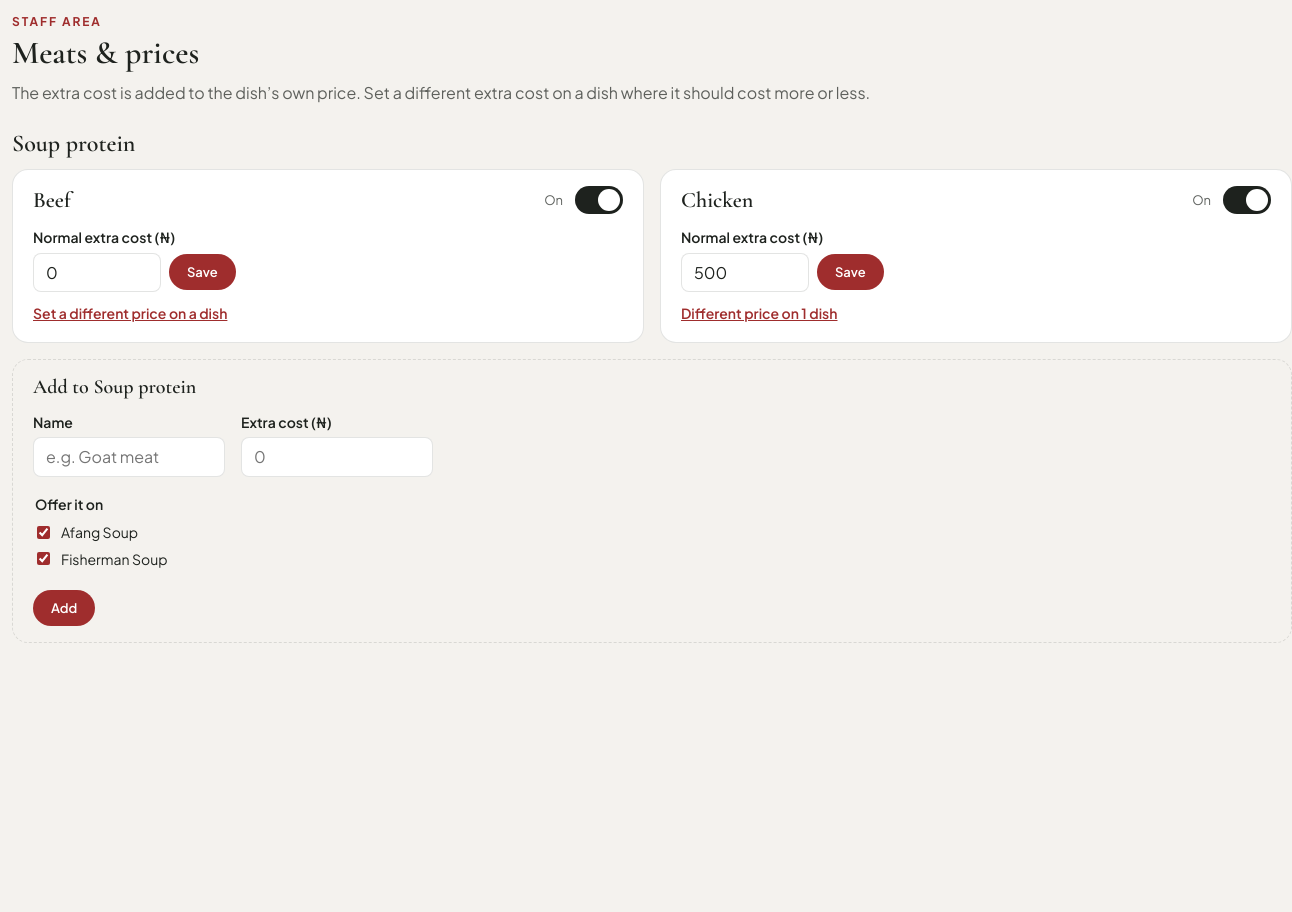
Test: AdminMeatsView › changing a meat’s price › saves the new price in kobo and confirms it
Replace the text in the field with test id "price" below "Chicken" with "₦700" at (745, 272), box top-left (681, 253), bottom-right (809, 292)
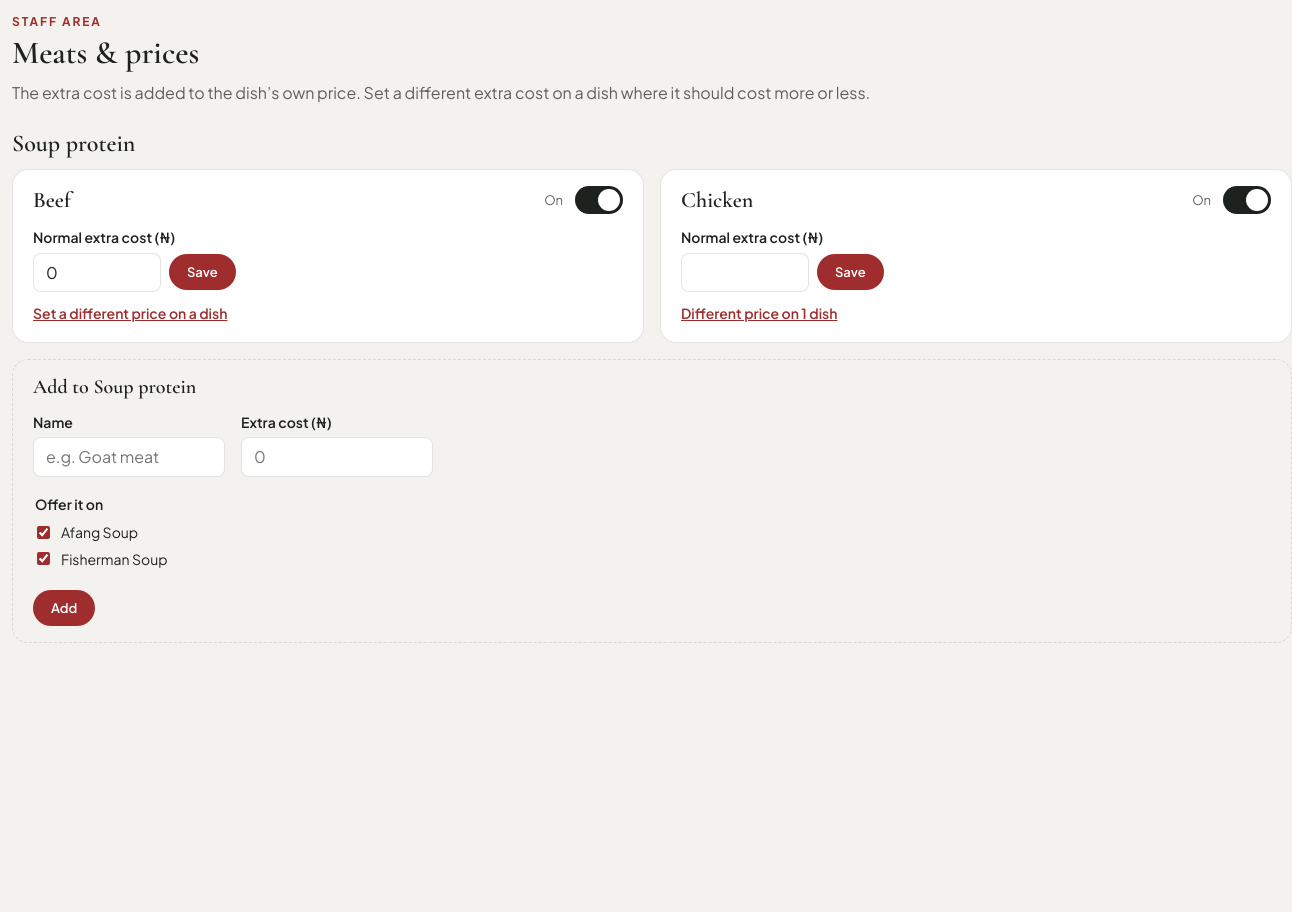
Submit the form with test id "price-form" below "Chicken", box top-left (681, 228), bottom-right (884, 292)
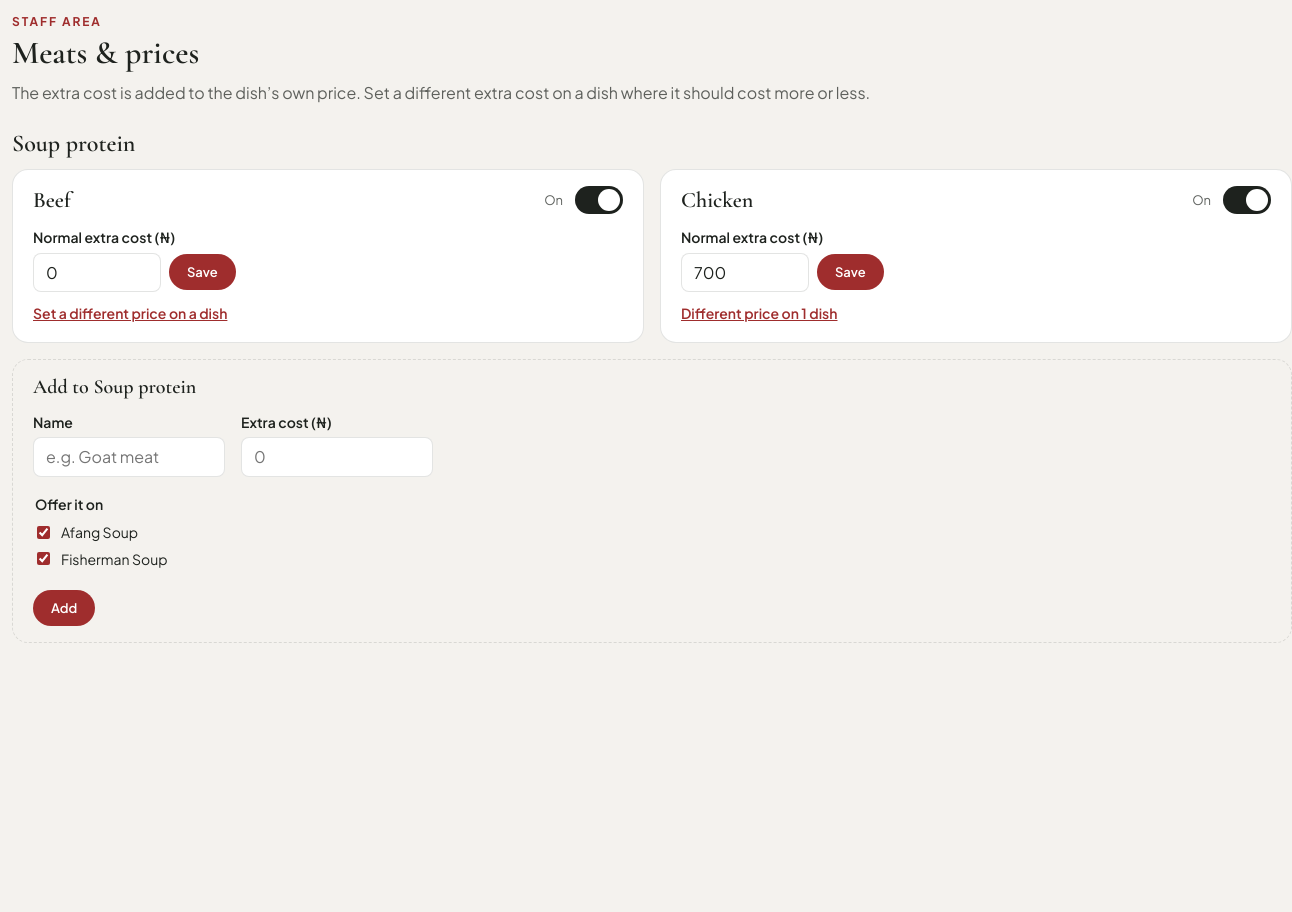
Expected: the field with test id "price" below "Chicken" holds "700", top-left (681, 253), bottom-right (809, 292)
